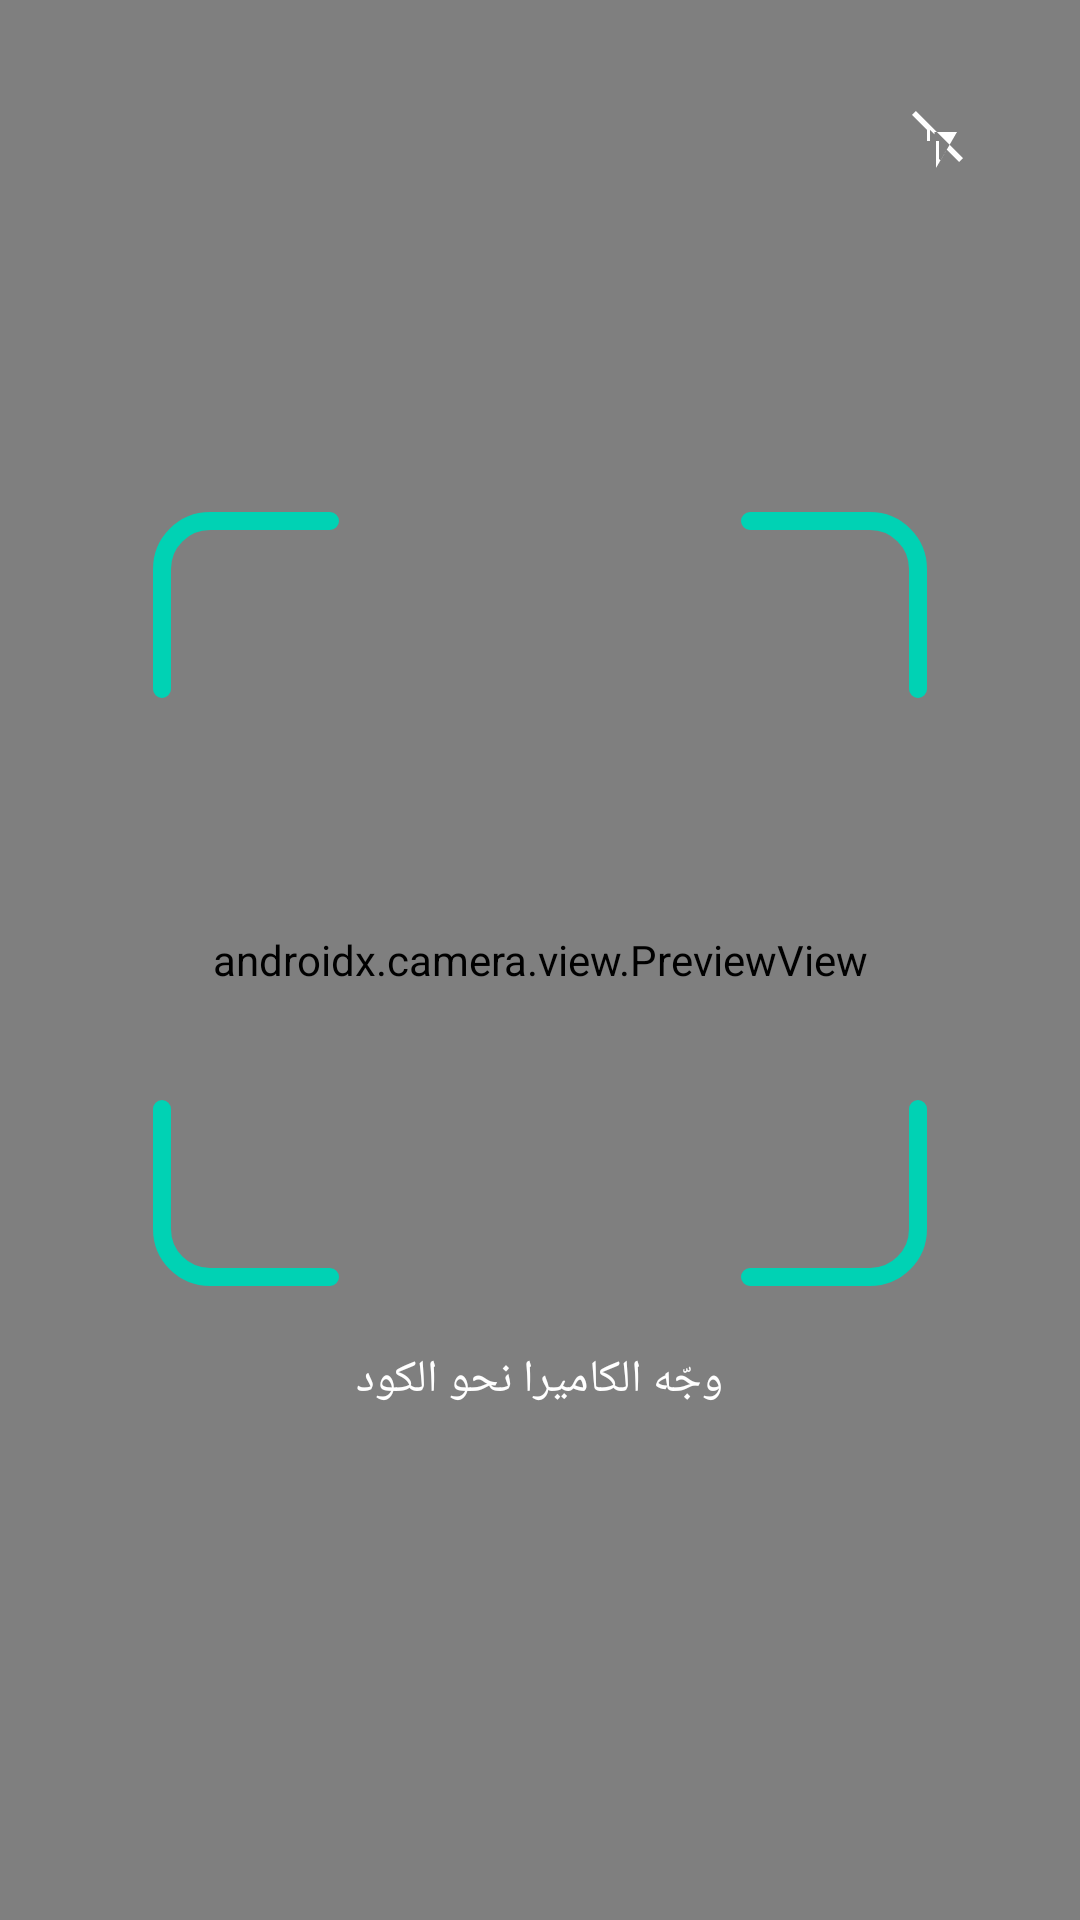

Icons on this 1080x1920 Android screen, each with its box as (x1, y1, x2, y2):
تشغيل الفلاش: (912, 111, 963, 168)
